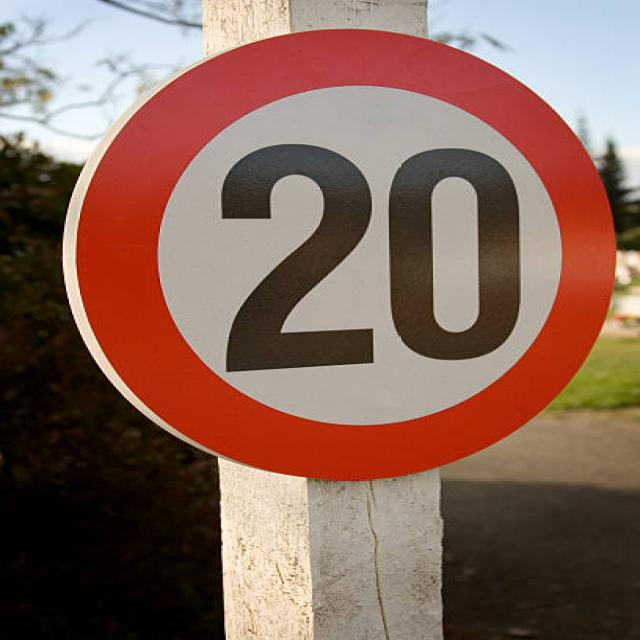speed_limit_20: (57, 16, 630, 492)
